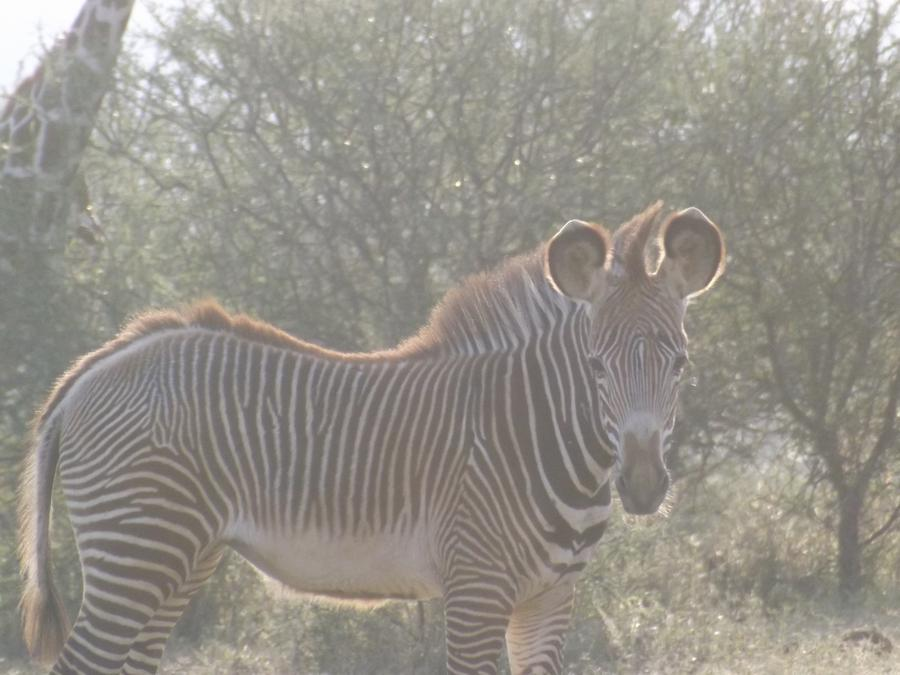zebra_grevys: (40, 292, 547, 595)
